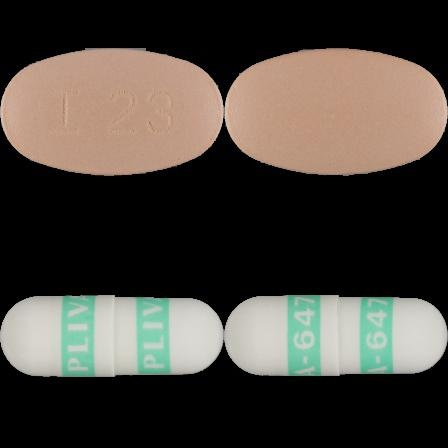10544-580: (0, 0, 224, 224)
